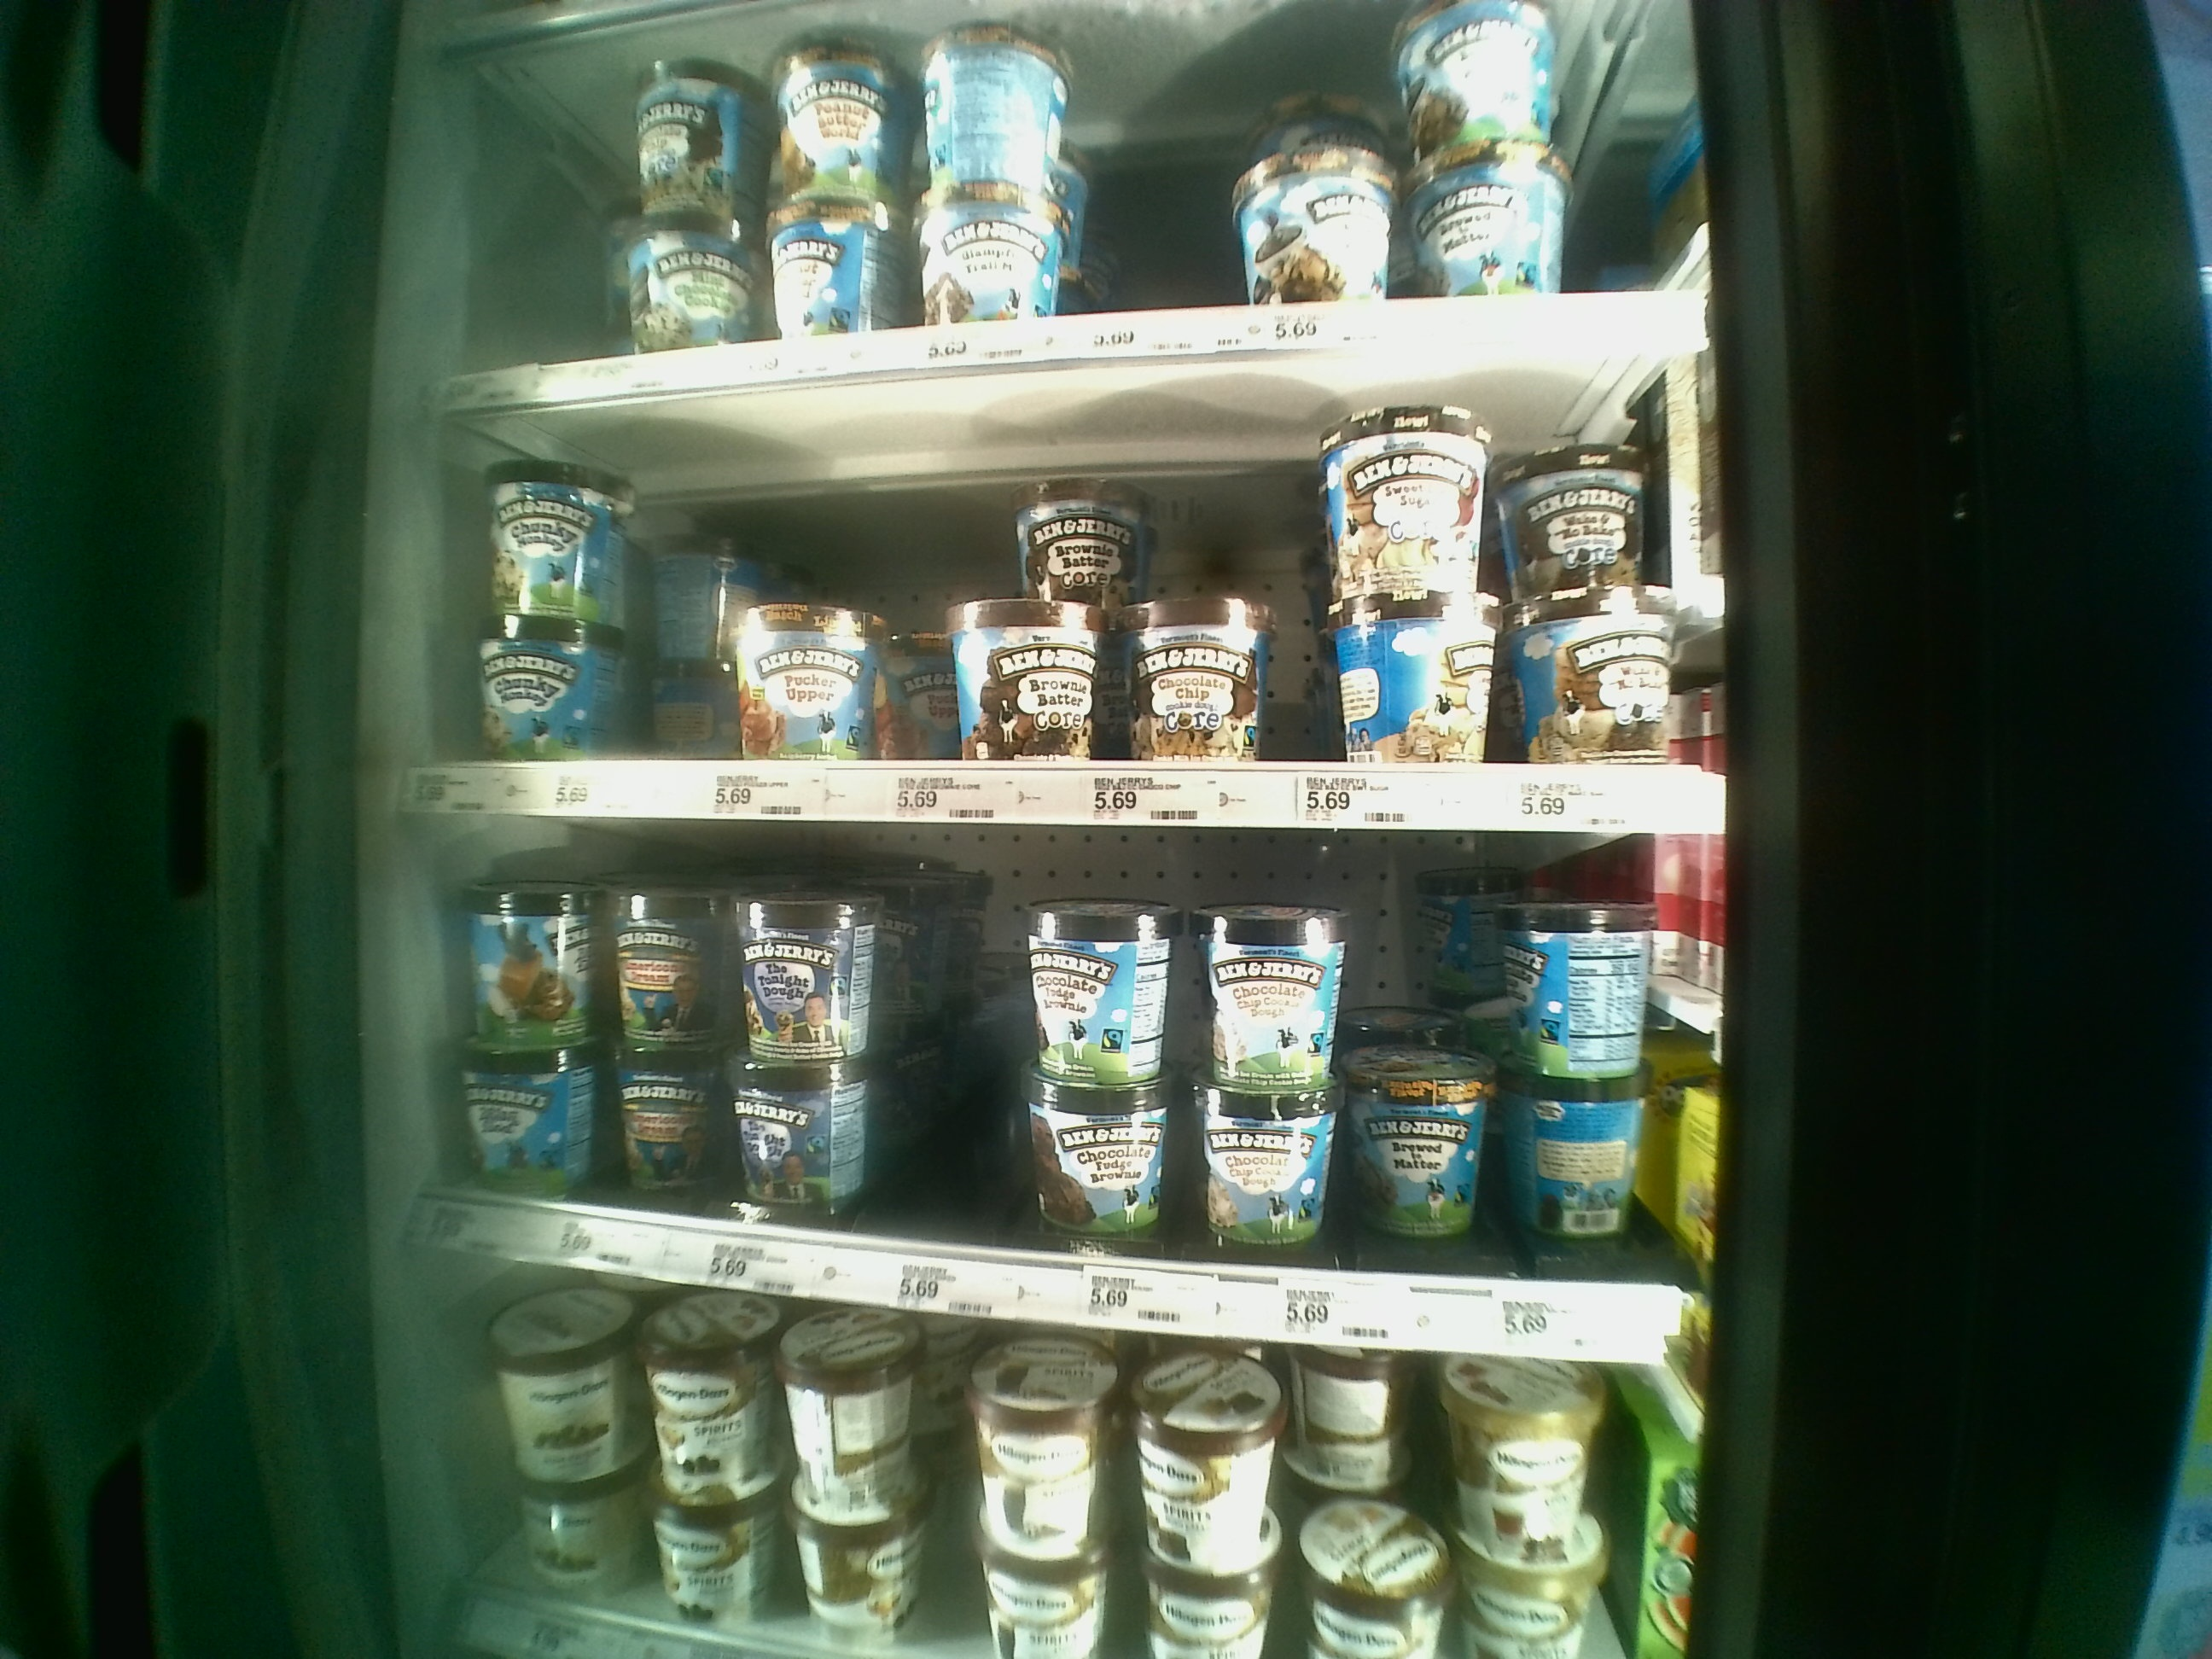shelf: (428, 831, 1731, 1354), (425, 408, 1737, 817)
